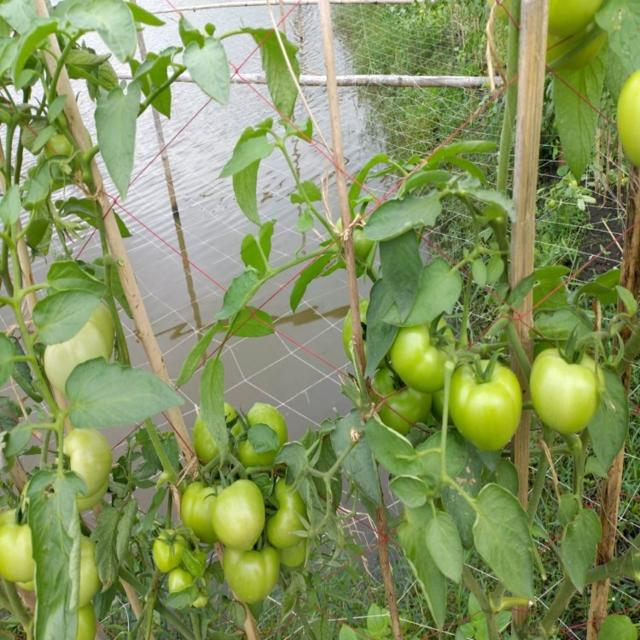tomato: (452, 359, 524, 454), (531, 346, 601, 431), (398, 323, 458, 388), (216, 480, 267, 550), (375, 374, 435, 428), (224, 549, 281, 603), (65, 431, 111, 484), (1, 508, 32, 586), (45, 330, 111, 365), (268, 484, 303, 547), (618, 73, 640, 166), (546, 32, 608, 65), (186, 482, 219, 541), (546, 1, 609, 29), (77, 535, 101, 607), (152, 532, 186, 574), (193, 425, 219, 463), (255, 404, 287, 433), (227, 404, 244, 446), (241, 445, 275, 466), (51, 133, 72, 159), (85, 606, 98, 640)
